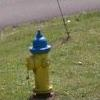Hydrant: (23, 24, 61, 100)
